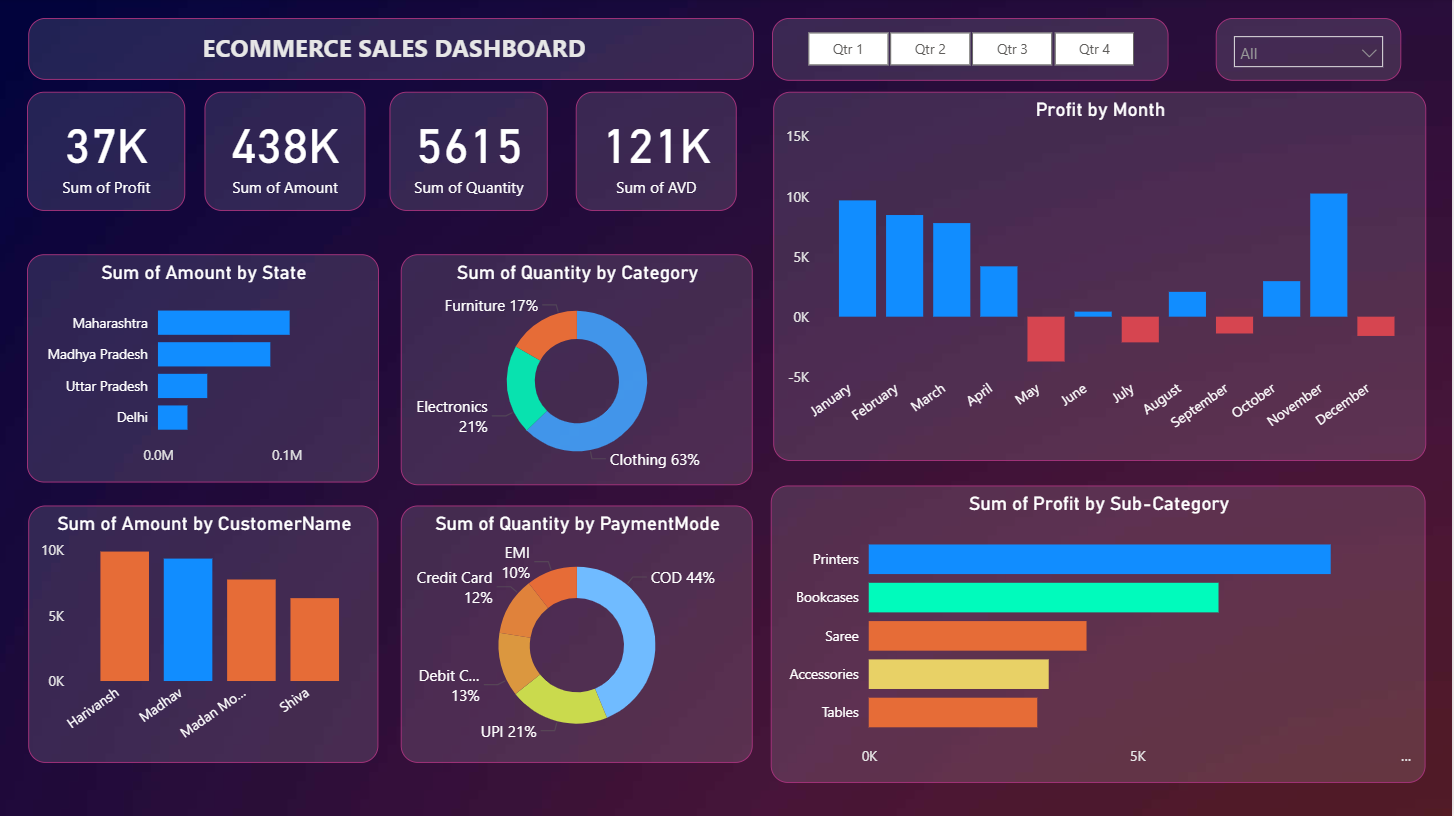

Layout of this report page (visuals, bound fields, positions):
{"tool":"powerbi","page":{"name":"Page 1","canvas":[1280,720],"ordinal":0},"visuals":[{"type":"textbox","box":[27.4,17.9,638.1,54.8],"z":0},{"type":"columnChart","title":"Profit by Month","fields":{"Y":["Details.Profit"],"Category":["Orders.Order Date.Variation.Date Hierarchy.Month"]},"box":[682.5,82.1,574.4,324.5],"z":1000},{"type":"barChart","fields":{"Category":["Details.Sub-Category"],"Y":["Details.Profit"]},"box":[681,428.6,576.2,261.9],"z":2000},{"type":"donutChart","fields":{"Y":["Details.Quantity"],"Category":["Details.PaymentMode"]},"box":[354.8,446.4,309.5,226.2],"z":3000},{"type":"donutChart","fields":{"Category":["Details.Category"],"Y":["Details.Quantity"]},"box":[354.8,225,309.5,203.6],"z":4000},{"type":"card","fields":{"Values":["Details.Amount"]},"box":[182.1,82.1,141.7,104.8],"z":5000},{"type":"card","fields":{"Values":["Details.Quantity"]},"box":[345.2,82.1,139.3,104.8],"z":6000},{"type":"card","fields":{"Values":["Details.Profit"]},"box":[26.2,82.1,139.3,104.8],"z":7000},{"type":"card","fields":{"Values":["Details.AVD"]},"box":[509.5,82.1,141.7,104.8],"z":8000},{"type":"barChart","fields":{"Category":["Orders.State"],"Y":["Details.Amount"]},"box":[26.2,225,309.5,201.2],"z":9000},{"type":"columnChart","fields":{"Category":["Orders.CustomerName"],"Y":["Details.Amount"]},"box":[27.4,446.4,308.3,226.2],"z":10000},{"type":"slicer","fields":{"Values":["Orders.Order Date.Variation.Date Hierarchy.Quarter"]},"box":[682,17.8,348.5,54.9],"z":11000},{"type":"slicer","fields":{"Values":["Orders.State"]},"box":[1071.7,17.8,163.3,54.9],"z":12000}]}

Visuals, with their boxes in screenshot pixels (x1, y1, x2, y2), scaled from the page's 1280x720 canvas onto the 1454x816 screenshot:
textbox: [31,20,756,82]
"Profit by Month" columnChart: [775,93,1428,461]
barChart - Details.Sub-Category x Details.Profit: [774,486,1428,783]
donutChart - Details.Quantity x Details.PaymentMode: [403,506,755,762]
donutChart - Details.Category x Details.Quantity: [403,255,755,486]
card - Details.Amount: [207,93,368,212]
card - Details.Quantity: [392,93,550,212]
card - Details.Profit: [30,93,188,212]
card - Details.AVD: [579,93,740,212]
barChart - Orders.State x Details.Amount: [30,255,381,483]
columnChart - Orders.CustomerName x Details.Amount: [31,506,381,762]
slicer - Orders.Order Date.Variation.Date Hierarchy.Quarter: [775,20,1171,82]
slicer - Orders.State: [1217,20,1403,82]
